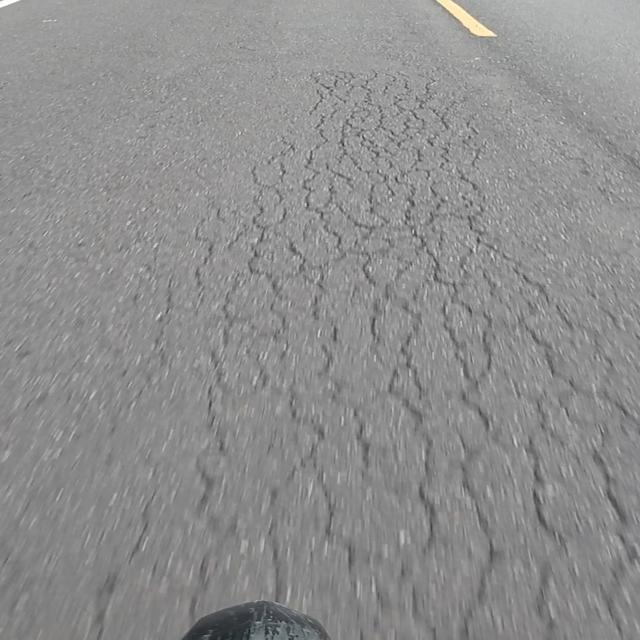Retak Buaya: (193, 73, 640, 640)
